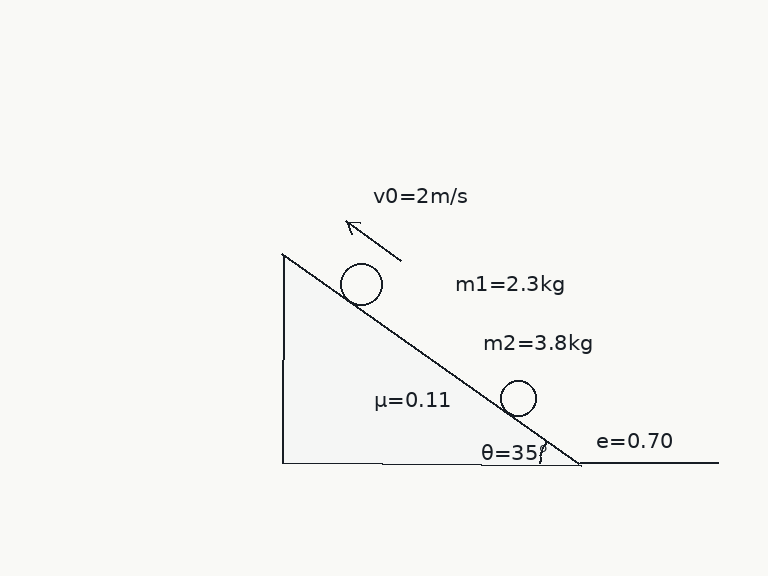ball: (338, 261, 384, 307), (498, 378, 538, 418)
ramp: (281, 253, 582, 465)
